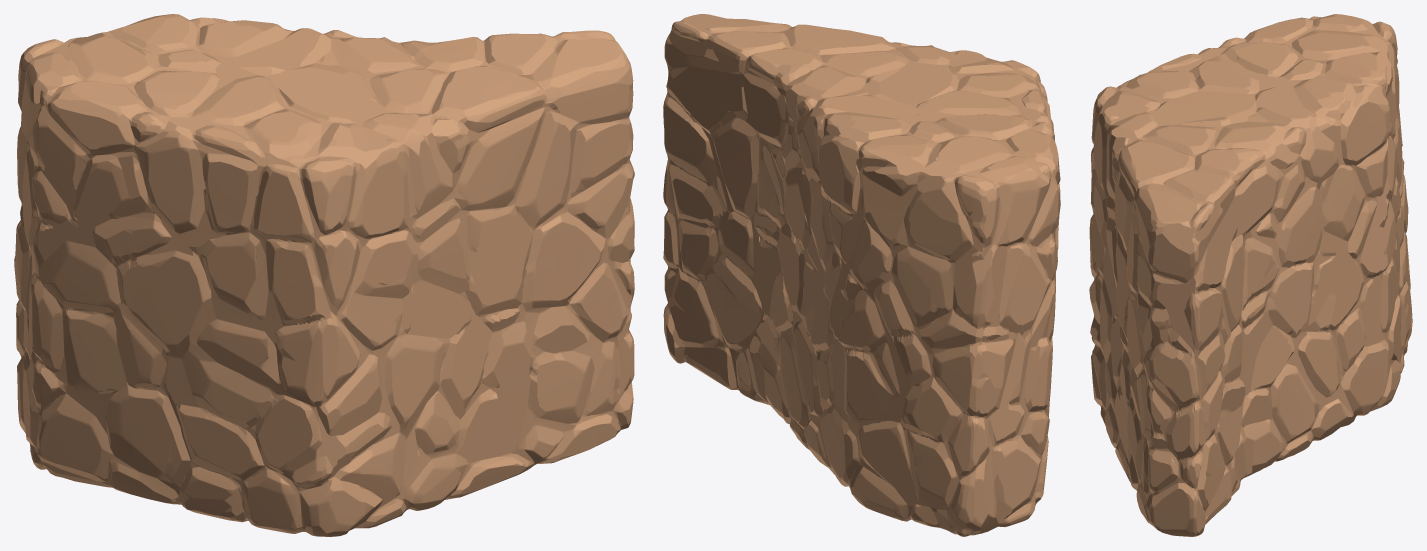
3 views of the same model, side by side, from view 1: azimuth 30°, elevation 25°; view 2: azimuth 150°, elevation 25°; view 3: azimuth 270°, elevation 25° (orthographic). The views are drawn at different scales.
Parts seen in each view (by area): view 1: Mesh_72_LOD0; view 2: Mesh_72_LOD0; view 3: Mesh_72_LOD0.
Boxes of the visible parts, x1=… form: Mesh_72_LOD0: x1=14, y1=14, x2=634, y2=536; Mesh_72_LOD0: x1=663, y1=14, x2=1060, y2=536; Mesh_72_LOD0: x1=1089, y1=14, x2=1412, y2=536.
Size of what is drawn, in the model's own units: 7170 by 5378 by 4711.
